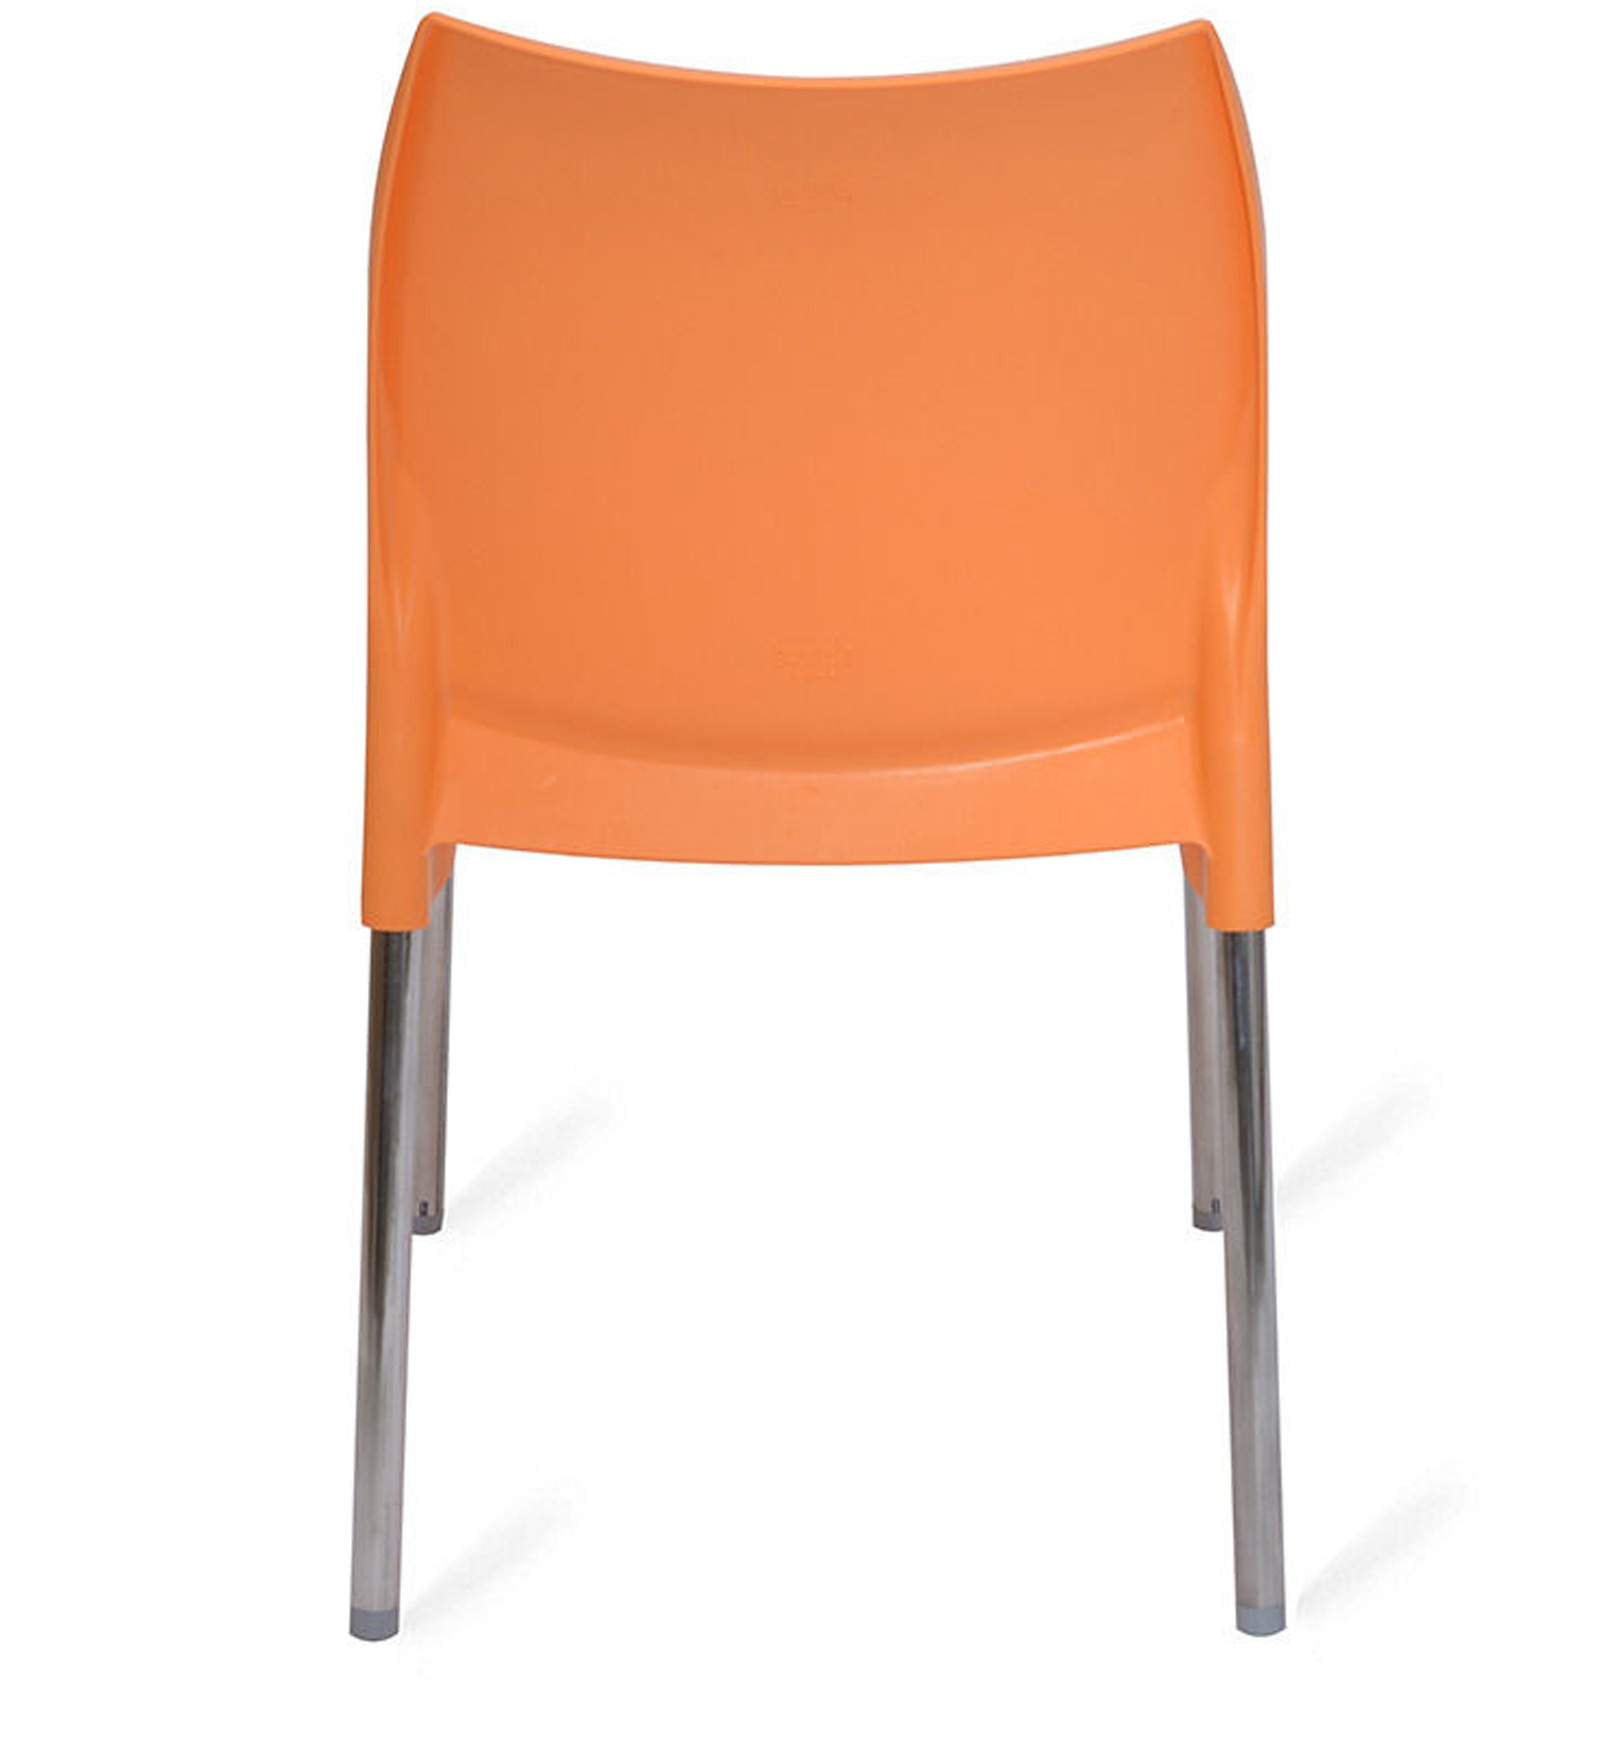Novella Plastic Chair in Orange by Nilkamal: (342, 9, 1307, 1645)
